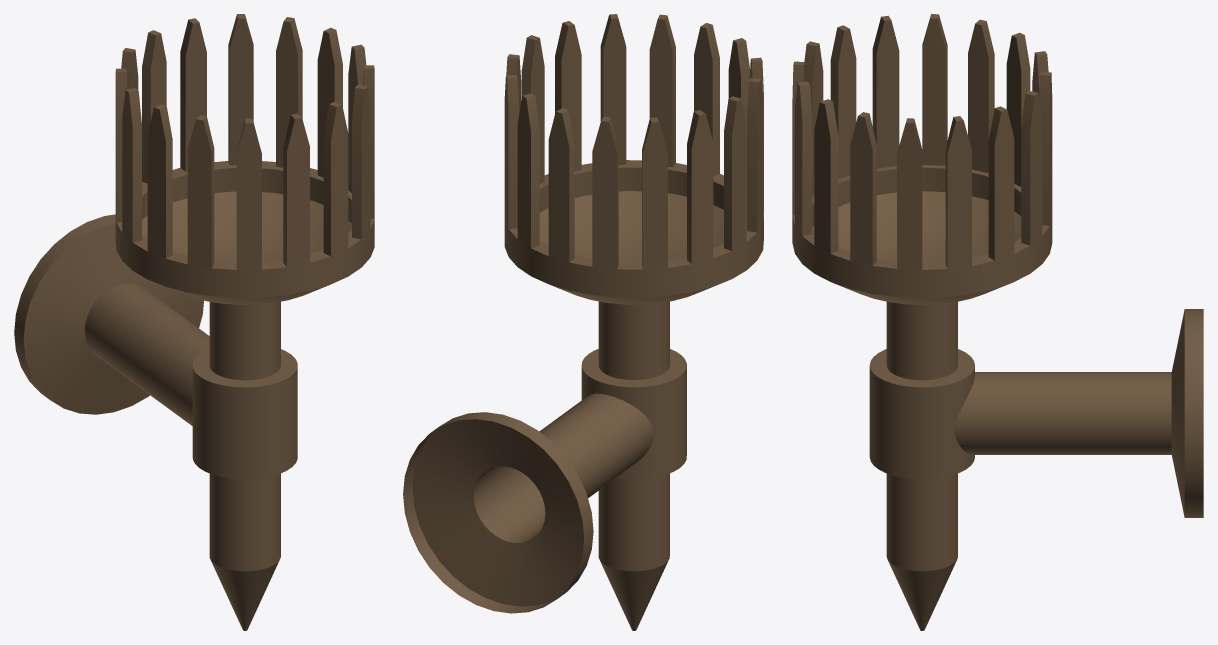
The model's file is Torch.gltf.
3 renders of one model, left to right at view 1: azimuth 30°, elevation 25°; view 2: azimuth 150°, elevation 25°; view 3: azimuth 270°, elevation 25°, orthographic.
Visible parts, largest first — view 1: Torch; view 2: Torch; view 3: Torch.
Boxes of the visible parts, bbox=[...] form: Torch: bbox=[14, 14, 374, 630]; Torch: bbox=[403, 14, 763, 630]; Torch: bbox=[792, 14, 1203, 630].
Bounding box in the file's own units: 0.4839 × 1.15 × 0.7653.
